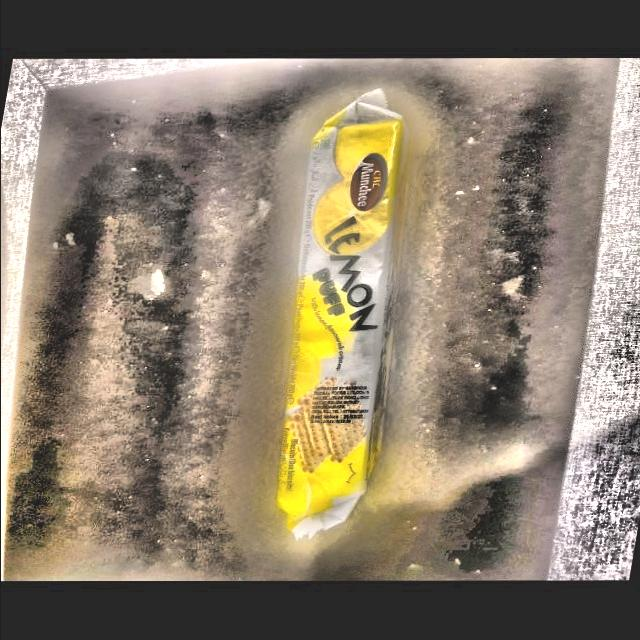lemon puff: (260, 95, 420, 542)
